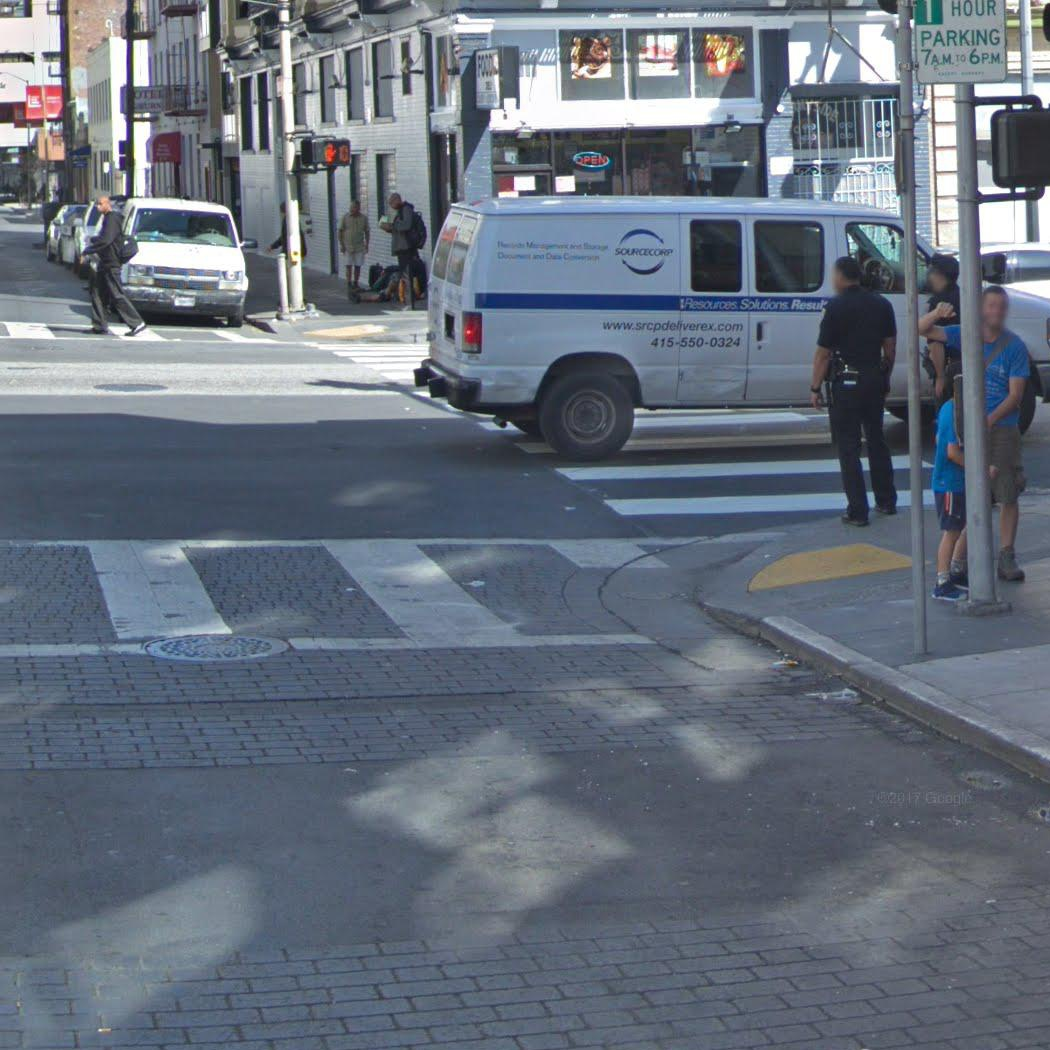1 Hour Parking: (909, 0, 1008, 86)
